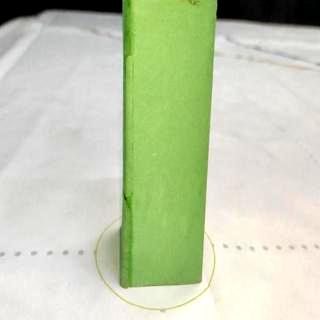greenbox: (120, 0, 216, 285)
